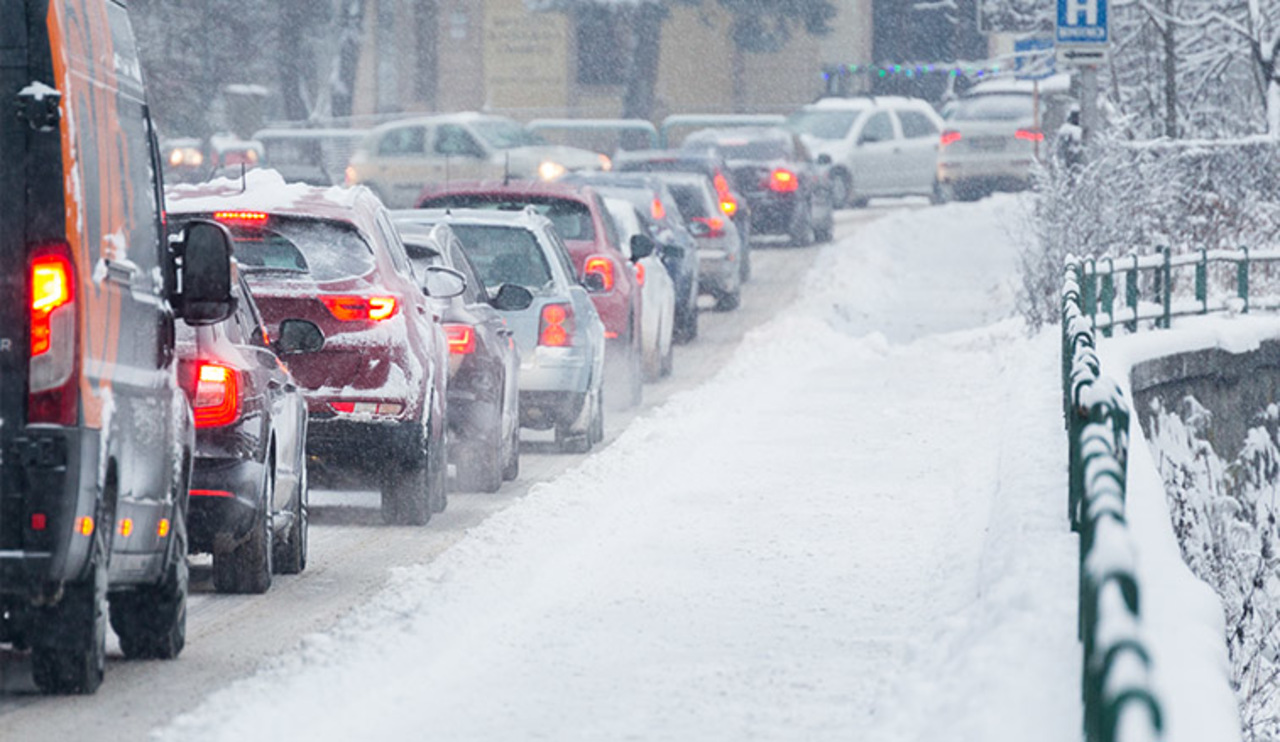car: (9, 15, 167, 698), (192, 180, 449, 529), (176, 224, 308, 601), (400, 222, 516, 499), (464, 217, 596, 447), (534, 190, 641, 415), (342, 112, 582, 209), (670, 121, 833, 244), (786, 94, 950, 207), (935, 80, 1068, 201), (617, 205, 672, 387), (639, 174, 696, 346), (692, 190, 735, 320)
